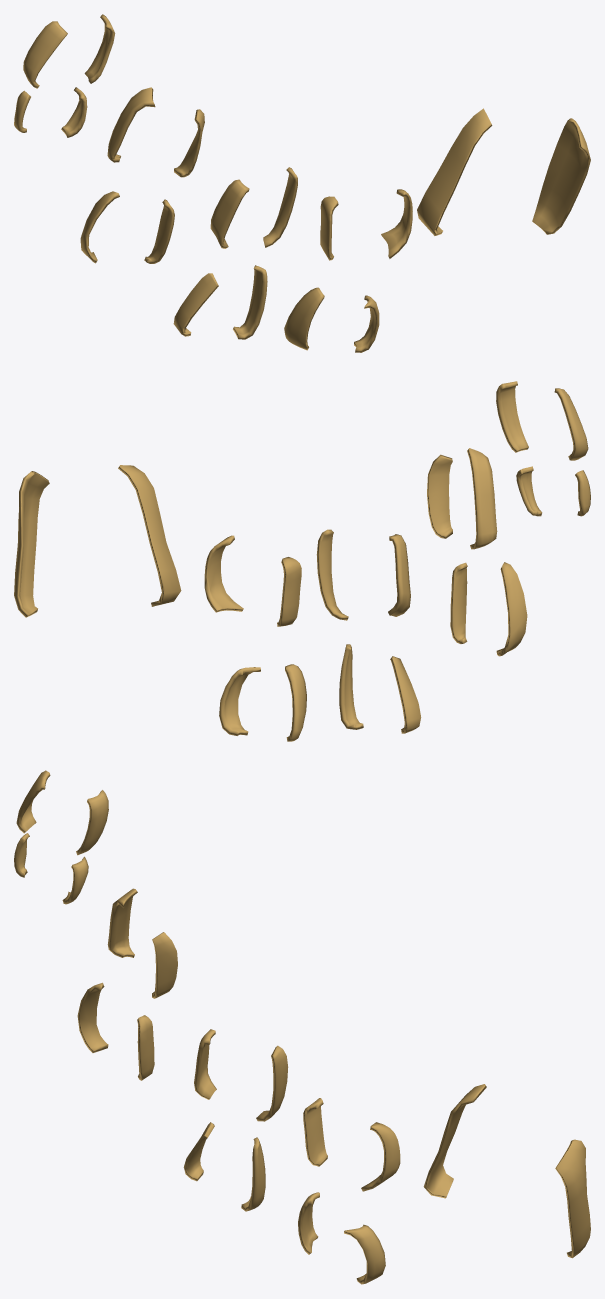
3 renders of one model, top to bottom at view 1: azimuth 30°, elevation 25°; view 2: azimuth 150°, elevation 25°; view 3: azimuth 330°, elevation 25°, orthographic. The views are drawn at different scales.
Parts seen in each view (by area): view 1: 右侧足趾间关节侧副韧带; view 2: 右侧足趾间关节侧副韧带; view 3: 右侧足趾间关节侧副韧带.
Boxes of the visible parts, box(x1,y1,x2,y2) form: 右侧足趾间关节侧副韧带: box(14, 14, 590, 352); 右侧足趾间关节侧副韧带: box(14, 381, 590, 741); 右侧足趾间关节侧副韧带: box(14, 770, 590, 1284).
Bounding box in the file's own units: 0.115 × 0.0802 × 0.0136.
